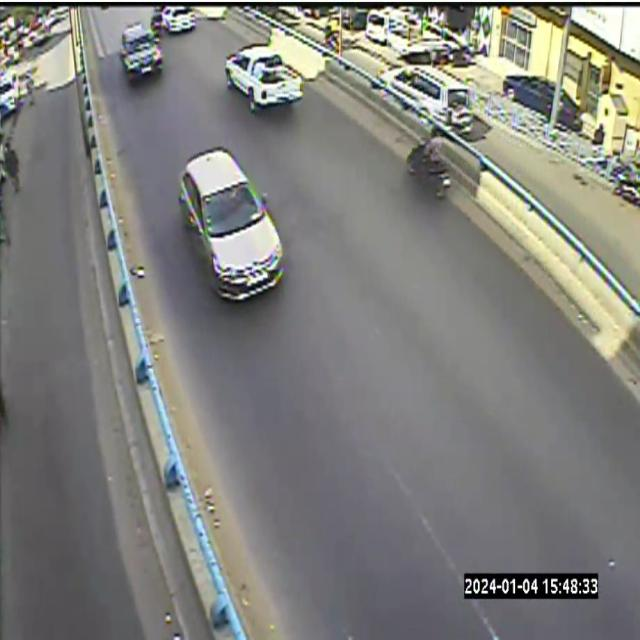car: (179, 146, 282, 300), (381, 66, 472, 133), (225, 46, 303, 111), (120, 21, 162, 81), (161, 5, 195, 33)
